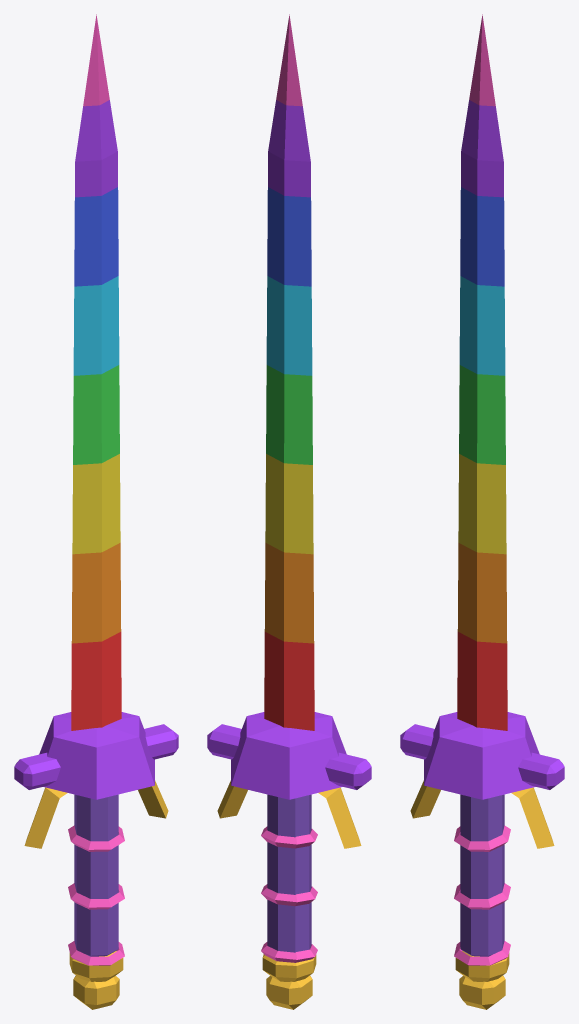
The model's file is RainbowRapier.fbx.
The picture shows the model from 3 angles, left to right: view 1: azimuth 30°, elevation 25°; view 2: azimuth 150°, elevation 25°; view 3: azimuth 330°, elevation 25°; orthographic projection.
Visible parts, largest first — view 1: RainbowRapier; view 2: RainbowRapier; view 3: RainbowRapier.
Boxes of the visible parts, x1,y1,x2,y2 form: RainbowRapier: (14, 14, 178, 1009); RainbowRapier: (207, 14, 371, 1009); RainbowRapier: (400, 14, 564, 1009).
Bounding box in the file's own units: 0.8 × 4.86 × 0.5196.
1 material, 1 textured.
